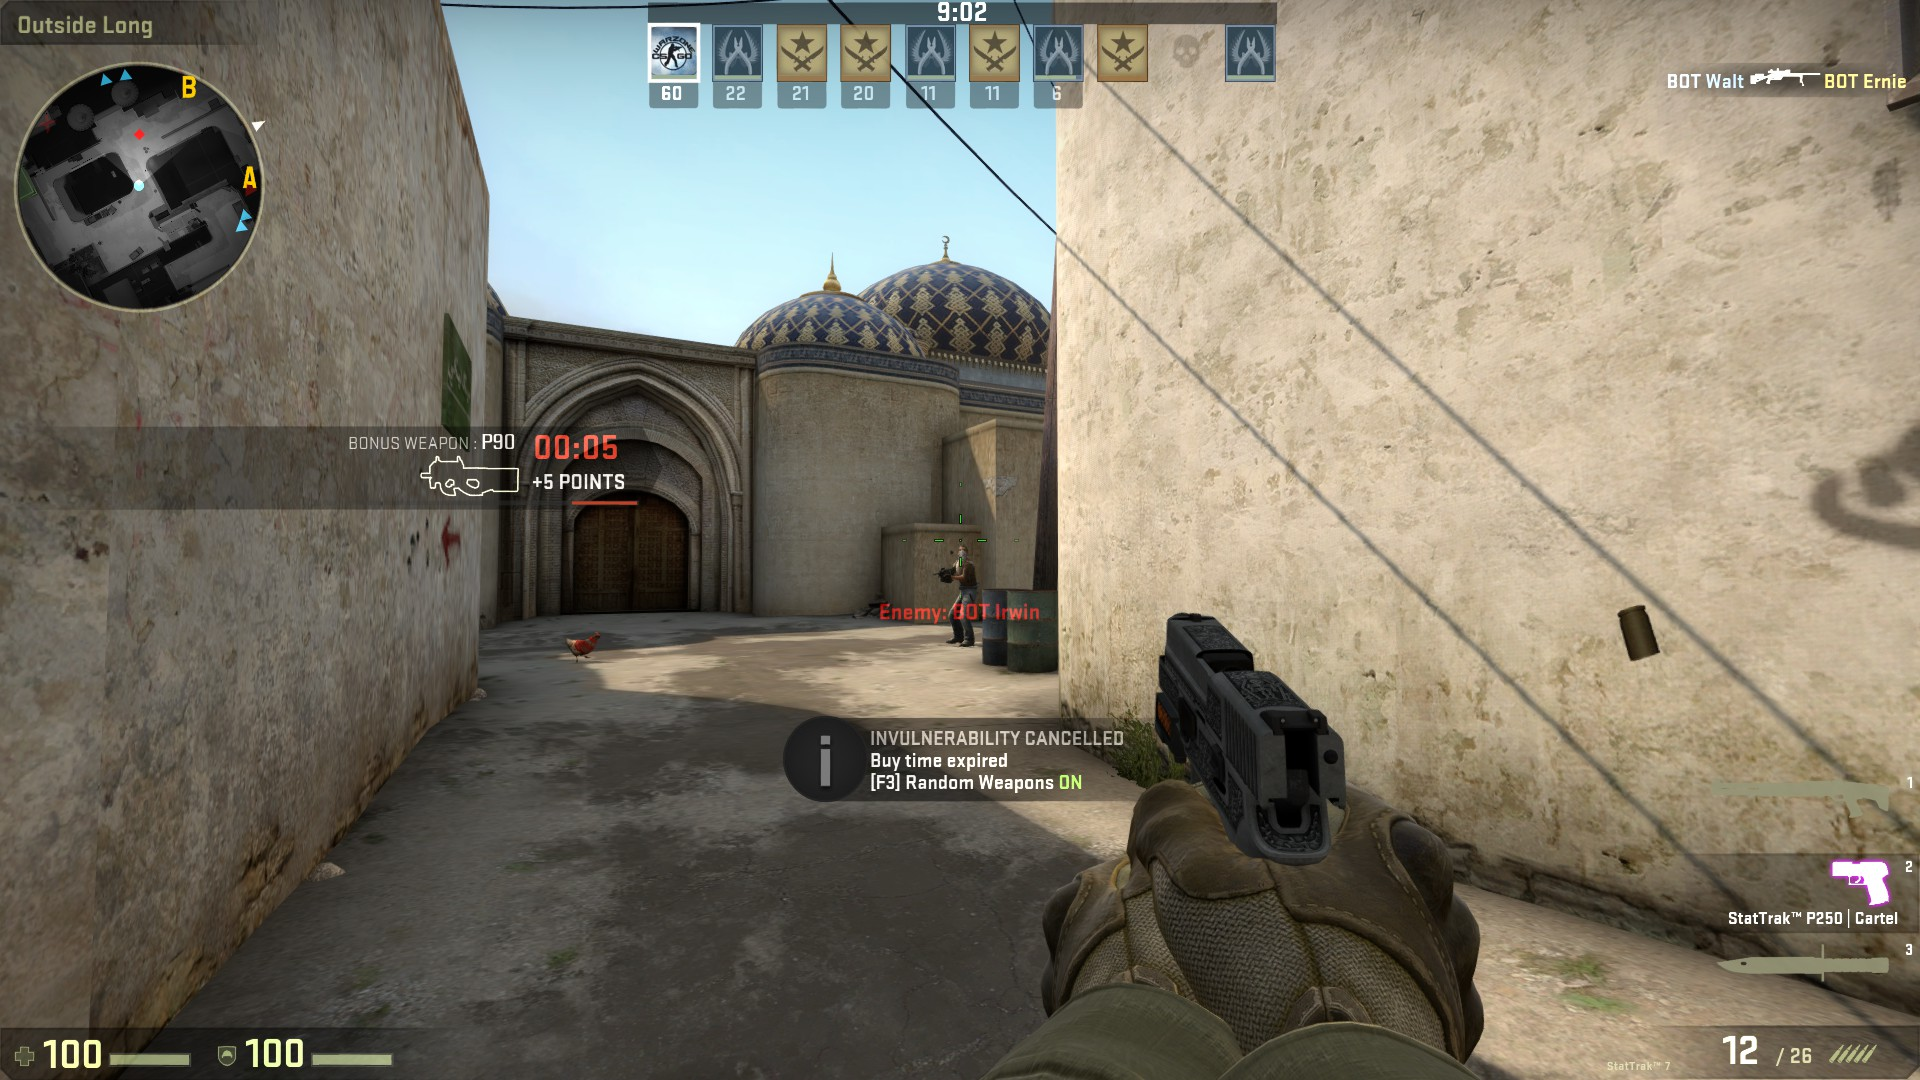t: (942, 543, 980, 649)
th: (955, 546, 969, 562)
